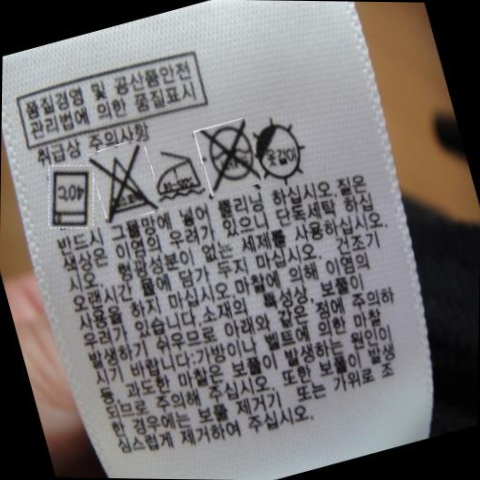40C: (44, 166, 93, 231)
DN_dry_clean: (207, 115, 252, 189)
iron_low: (155, 149, 201, 202)
line_dry_in_shade: (257, 116, 308, 183)
non_chlorine_bleach: (95, 142, 152, 221)
